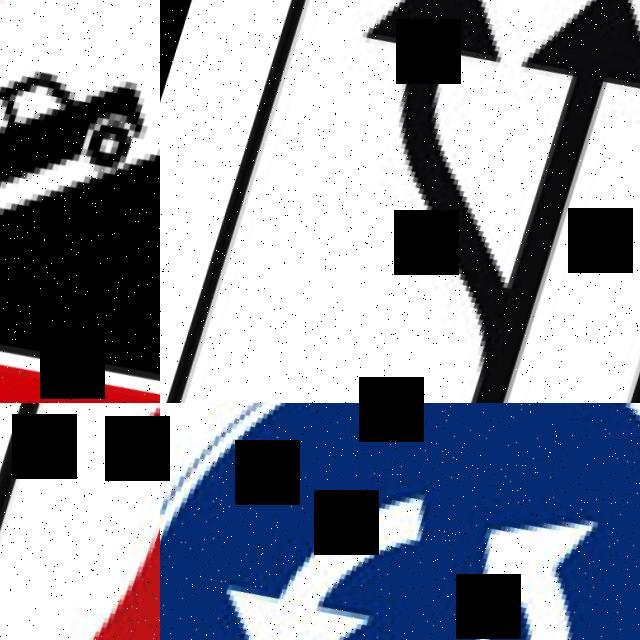107: (0, 403, 160, 640)
16: (160, 403, 640, 640)
179: (160, 0, 640, 403)
Roundabout: (160, 403, 640, 640)
Steep ascent: (0, 0, 160, 403)
